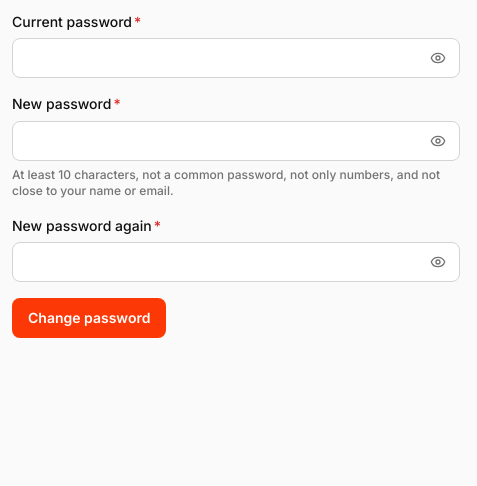
Test: PasswordChangeForm › explains a rate limit in words rather than a status code
Step 1. Type "guess-1" into the password field with id "current-password" → (236, 58), box top-left (12, 38), bottom-right (460, 78)
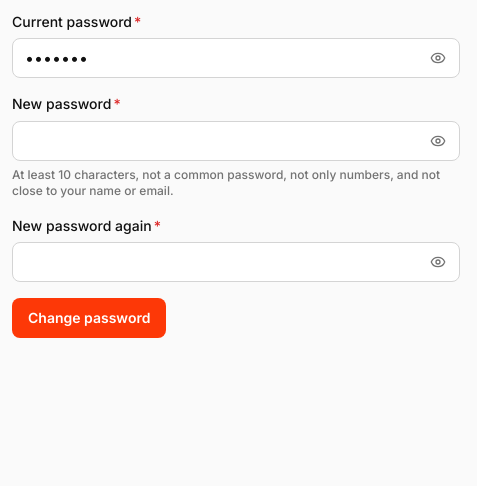
Step 2. Type "new-password-long-1" into the password field with id "new-password" → (236, 141), box top-left (12, 121), bottom-right (460, 161)
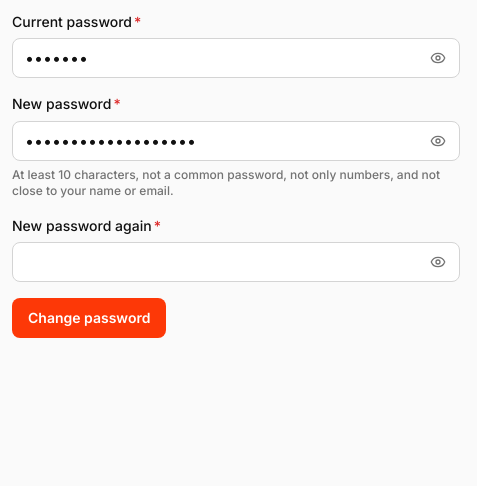
Step 3. Type "new-password-long-1" into the password field with id "confirm-password" → (236, 262), box top-left (12, 242), bottom-right (460, 282)
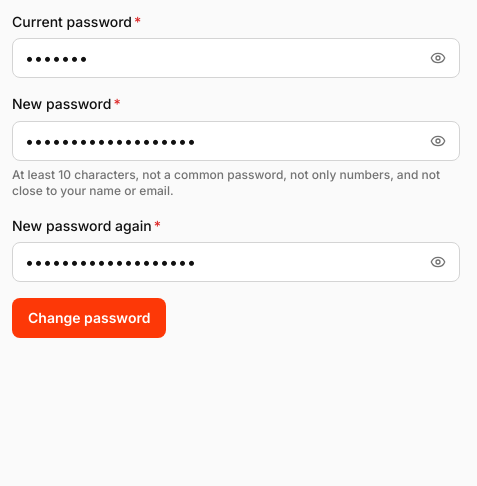
Step 4. Click the button "Change password" → (89, 318), box top-left (12, 298), bottom-right (166, 338)
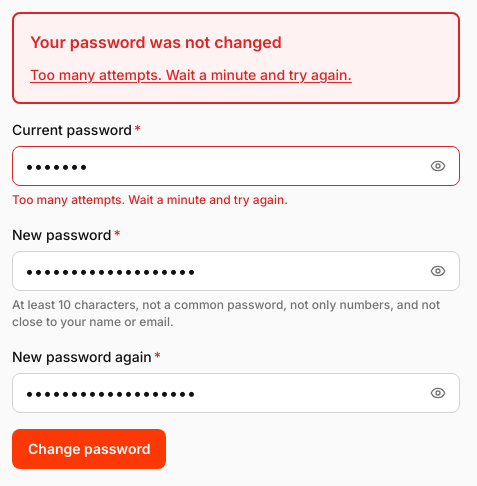
expect the link "Too many attempts. Wait a minute and try again." is shown: met, box top-left (30, 66), bottom-right (352, 83)
